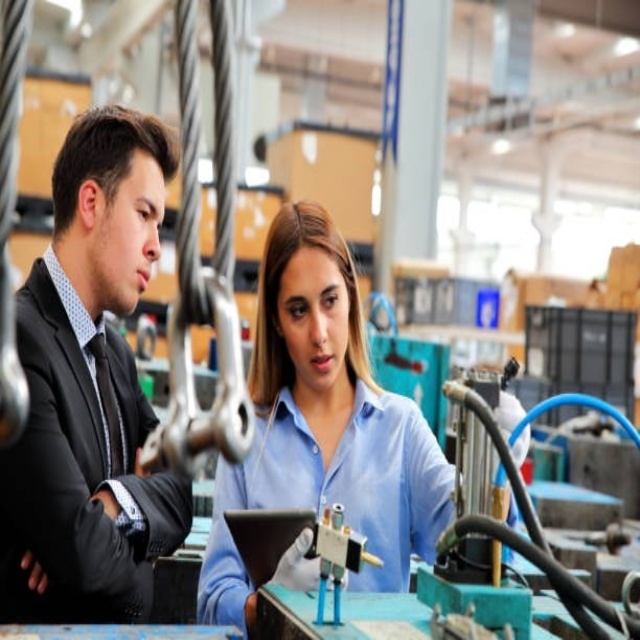Guantes: (272, 527, 348, 594), (491, 387, 530, 463)
Sin_gafas: (283, 273, 346, 323), (122, 185, 165, 237)
Sin_mascara: (120, 265, 155, 312), (304, 347, 340, 386)
